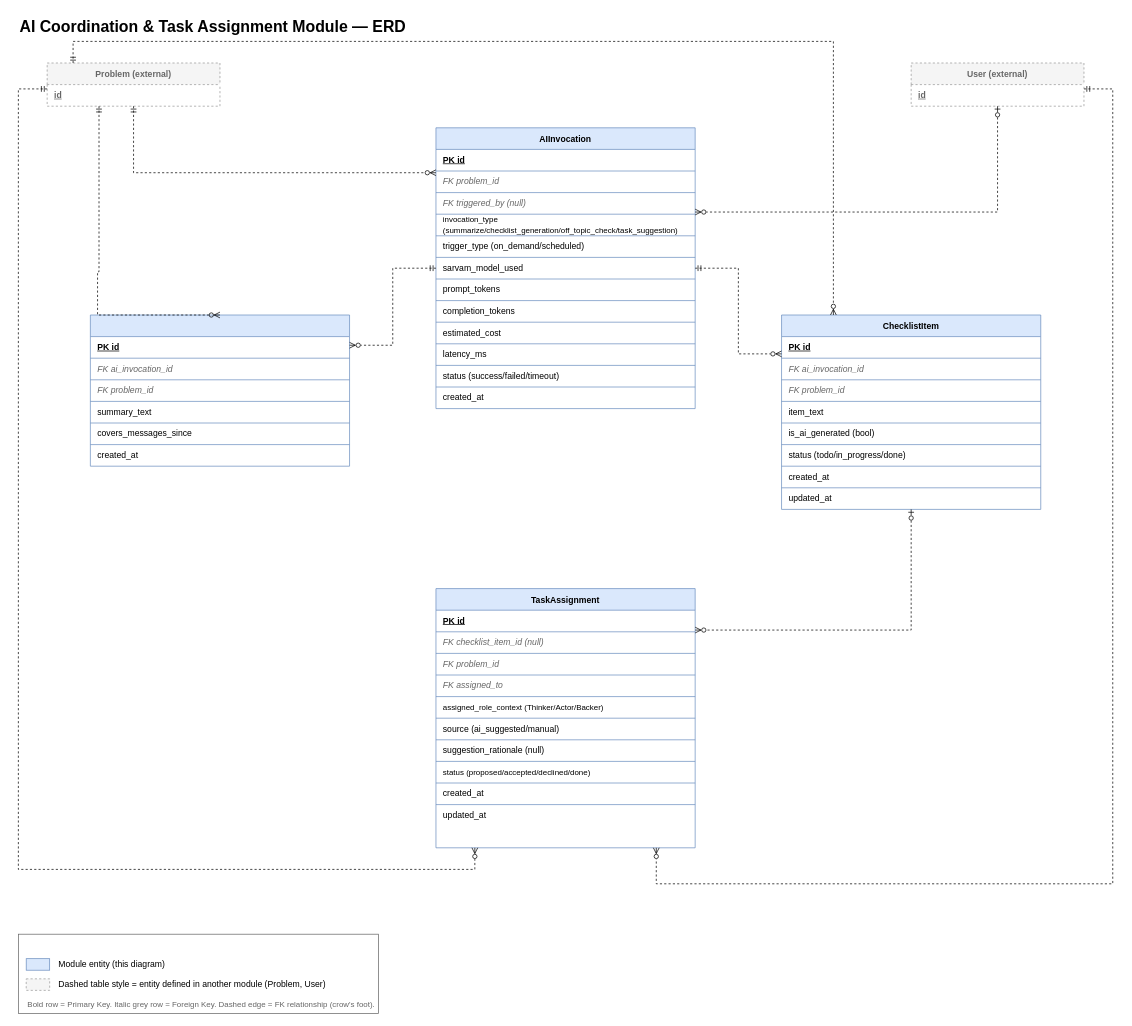
Image size: 1132x1026. Some labels were removed from this diagram. Here are the shapes that lost their labels. From the top down, the box of each, then its label:
(90, 314, 350, 466): ProblemSummary
(18, 933, 378, 1013): Legend
